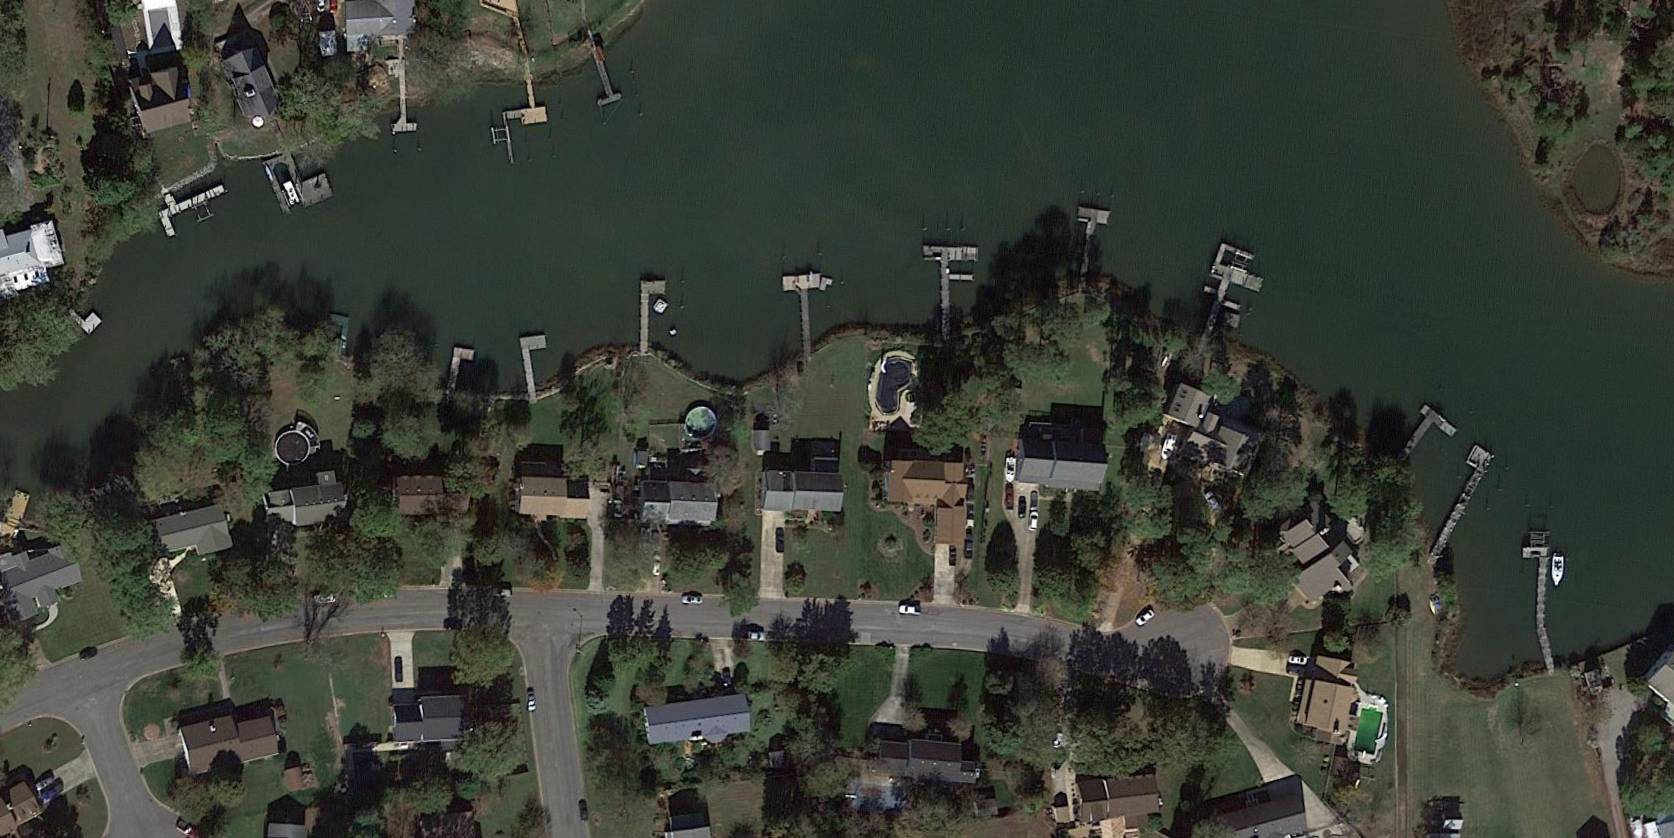harbor: (1190, 243, 1272, 337), (259, 139, 342, 221), (1428, 445, 1496, 545), (1386, 404, 1458, 476), (157, 184, 235, 240), (923, 246, 979, 315), (783, 273, 826, 340), (580, 47, 624, 108), (1519, 547, 1551, 627), (1073, 208, 1110, 271), (520, 333, 552, 390), (390, 76, 419, 134), (517, 78, 548, 129), (640, 281, 666, 338), (448, 346, 478, 394), (68, 301, 104, 337)
ship: (1159, 431, 1180, 463), (282, 179, 303, 210), (1551, 550, 1568, 588), (1004, 455, 1018, 483)
small vehicle: (1135, 607, 1157, 629), (32, 773, 56, 793), (40, 783, 63, 804), (963, 530, 975, 559), (79, 648, 101, 664), (315, 592, 341, 605), (897, 603, 923, 616), (650, 555, 664, 576), (736, 630, 768, 639), (678, 594, 706, 605), (491, 587, 513, 600), (1017, 495, 1028, 519), (444, 620, 469, 631), (525, 692, 537, 712), (1287, 655, 1308, 667), (1029, 512, 1041, 532), (775, 532, 785, 554), (1004, 487, 1014, 511), (578, 803, 590, 822), (1029, 491, 1039, 510), (722, 671, 733, 687)
swimming pool: (874, 353, 918, 418), (1354, 707, 1384, 756)
